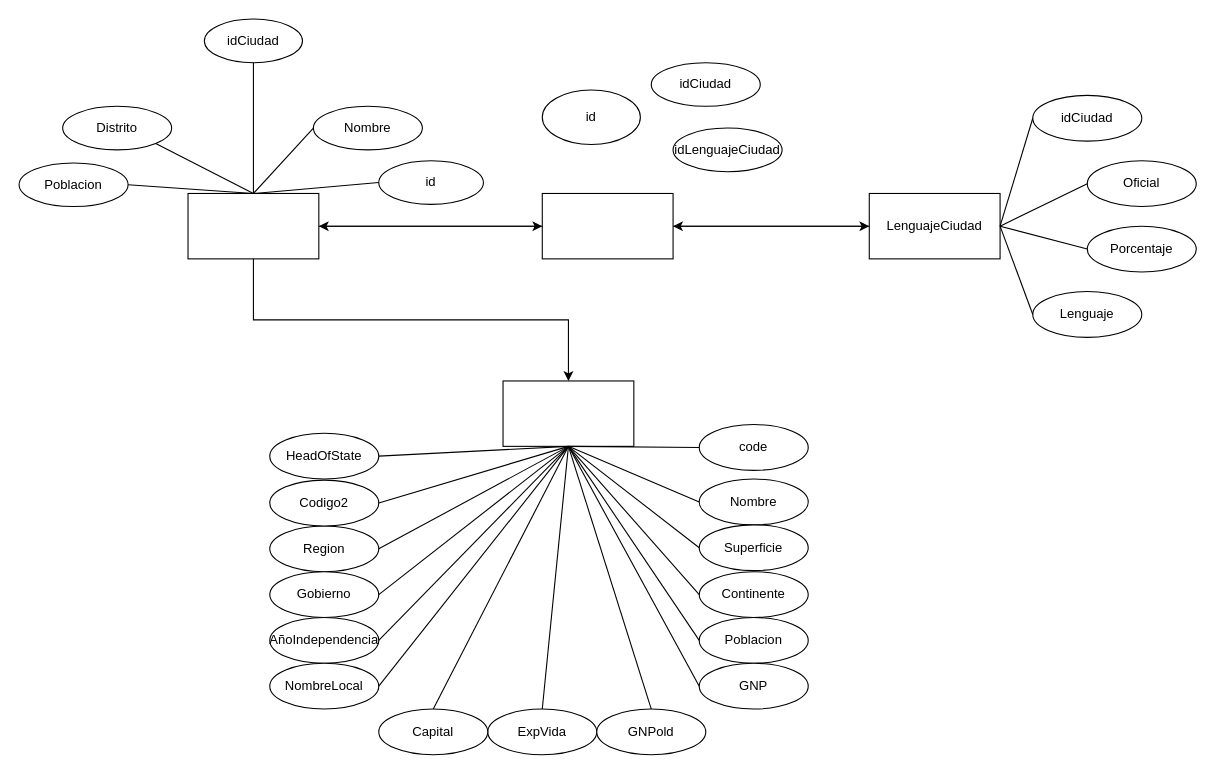
Image size: 1215x774. Some labels were removed from this diagram. Here are the shapes that lost their labels. From the top down, the centre of each, then its label:
At point (253, 225): "Ciudad".
At point (607, 225): "CiudadLenguajeNTN".
At point (568, 413): "País".
